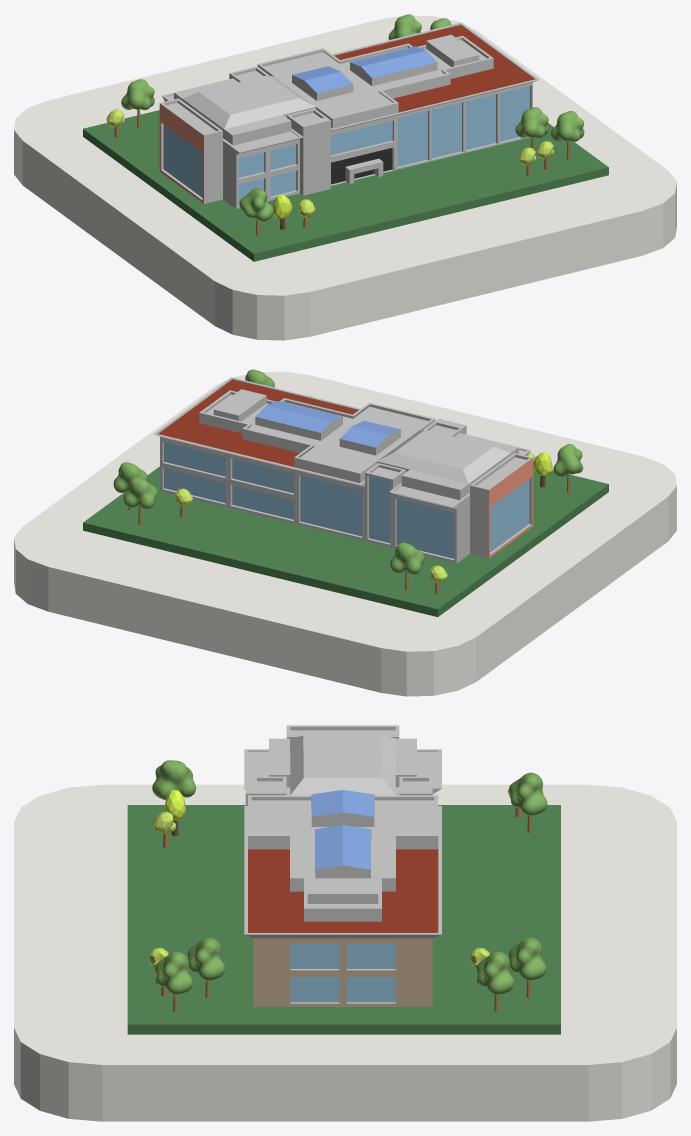
3 views of the same model, one above another, from view 1: azimuth 30°, elevation 25°; view 2: azimuth 150°, elevation 25°; view 3: azimuth 270°, elevation 25° (orthographic). The views are drawn at different scales.
Parts seen in each view (by area): view 1: Cube, 圖書1, 底板.007, Cylinder.021, Cylinder.001, Cylinder.418, Cylinder.003, Cylinder.006; view 2: Cube, 圖書1, 底板.007, Cylinder.006, Cylinder.021, Cylinder.418, Cylinder.005; view 3: Cube, 底板.007, 圖書1, Cylinder.005, Cylinder.001, Cylinder.003, Cylinder.021, Cylinder.006, Cylinder.418.
Part boxes in pixels (<box>): Cube: <box>14,15,676,340</box>; 圖書1: <box>159,22,539,208</box>; 底板.007: <box>83,110,608,261</box>; Cylinder.021: <box>121,79,154,127</box>; Cylinder.001: <box>551,111,584,159</box>; Cylinder.418: <box>239,188,273,235</box>; Cylinder.003: <box>515,107,548,149</box>; Cylinder.006: <box>388,14,421,39</box>; Cube: <box>14,371,676,696</box>; 圖書1: <box>153,377,533,563</box>; 底板.007: <box>83,466,608,616</box>; Cylinder.006: <box>123,477,157,524</box>; Cylinder.021: <box>390,542,424,590</box>; Cylinder.418: <box>553,444,583,492</box>; Cylinder.005: <box>113,462,147,509</box>; Cube: <box>14,784,676,1121</box>; 底板.007: <box>127,805,560,1034</box>; 圖書1: <box>244,725,441,1006</box>; Cylinder.005: <box>476,951,514,1011</box>; Cylinder.001: <box>155,951,192,1011</box>; Cylinder.003: <box>187,937,225,997</box>; Cylinder.021: <box>509,772,547,832</box>; Cylinder.006: <box>508,937,546,997</box>; Cylinder.418: <box>152,760,195,799</box>.
Bounding box in the file's own units: 18 × 4.97 × 18.
